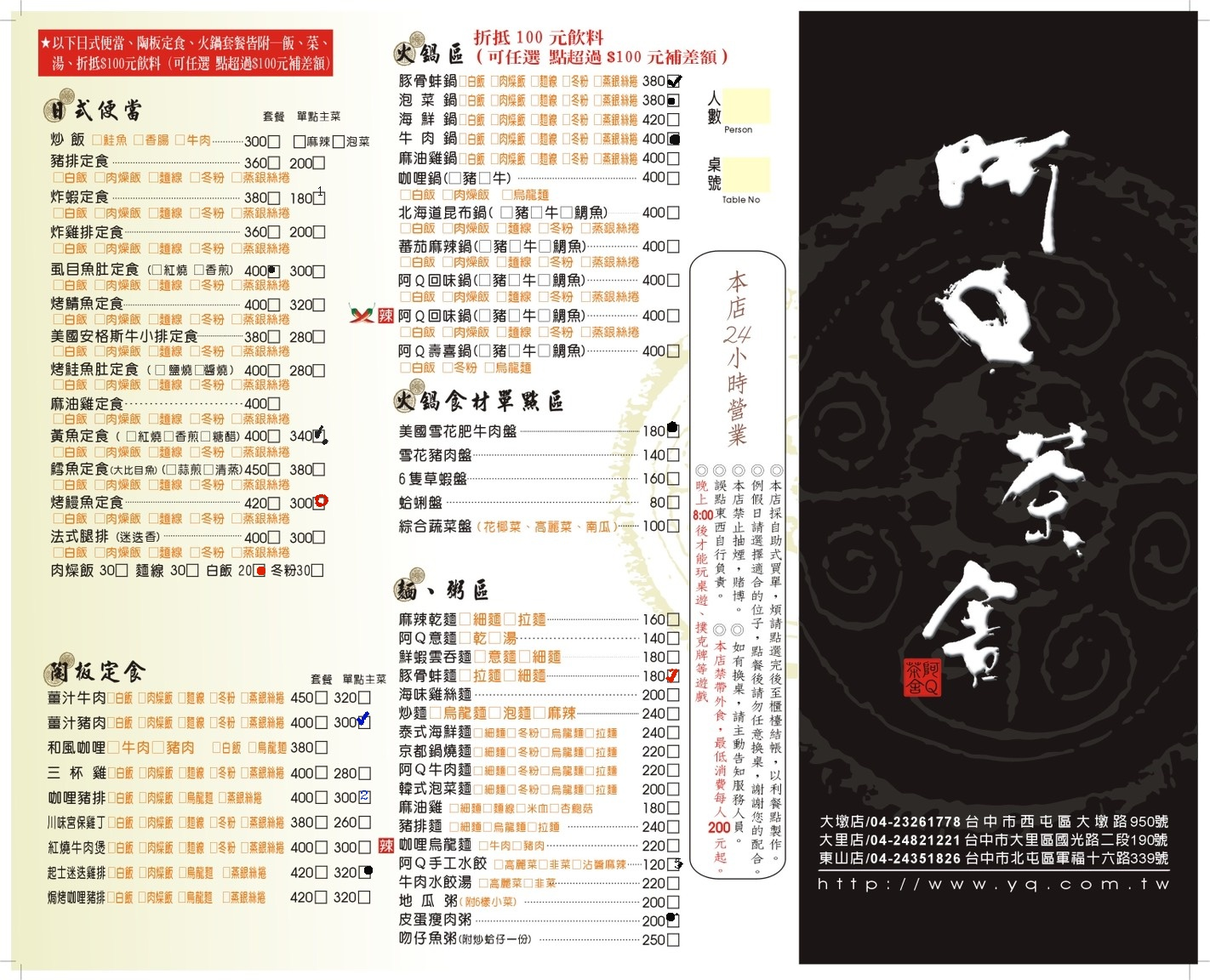marked_circle: (358, 864, 369, 879), (270, 264, 281, 278), (255, 560, 266, 574), (668, 423, 679, 435), (669, 96, 680, 108), (667, 914, 678, 926), (670, 134, 681, 145)
marked_hollow: (317, 496, 328, 510)
marked_number_1: (315, 190, 326, 204)
marked_number_2: (359, 790, 370, 805)
marked_number_5: (668, 858, 679, 869)
marked_tick: (317, 426, 328, 441), (357, 715, 368, 729), (669, 74, 680, 86), (668, 669, 679, 681)
